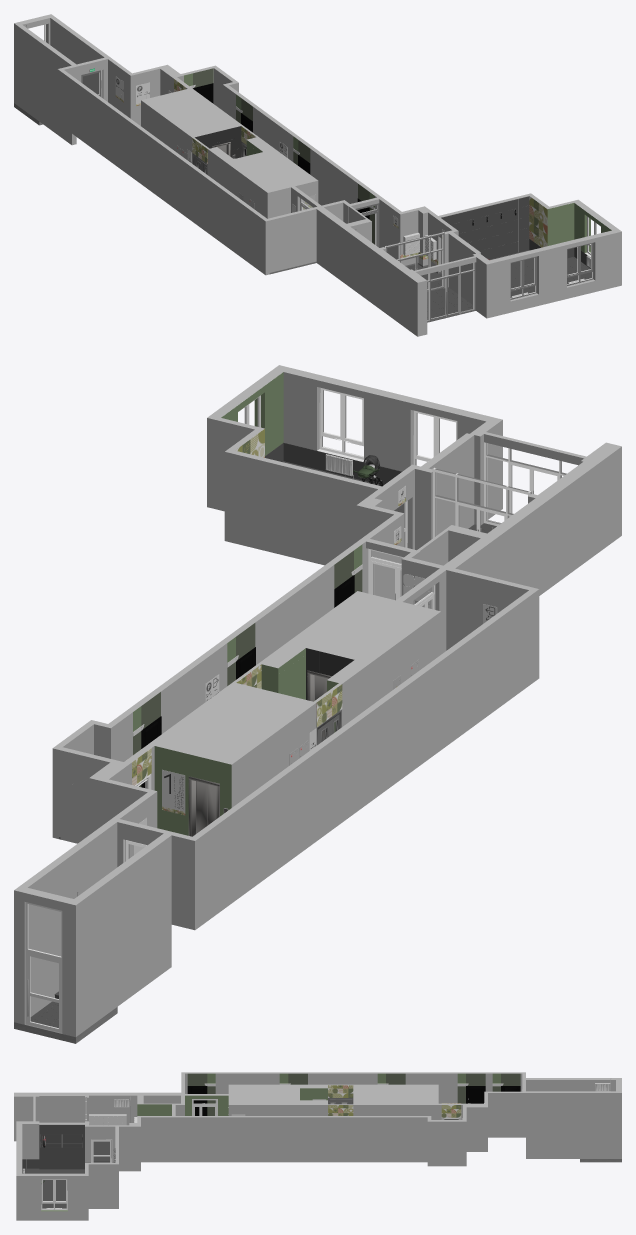
The model's file is OLIVIA_MOP_13_07_26.glb.
The picture shows the model from 3 angles, top to bottom: view 1: azimuth 30°, elevation 25°; view 2: azimuth 150°, elevation 25°; view 3: azimuth 270°, elevation 25°; orthographic projection. The views are drawn at different scales.
Visible parts, largest first — view 1: Box2131645134, Plane097, AR_Dvеr__Odnopol_nаy_Аlyminiеvаy__GOST23747-2015_DАV_G_Op_P_, JK_Oliviy_MOP_13_07_26, Plane001, Box2131644938, Plane024; view 2: Box2131645134, AR_Dvеr__Odnopol_nаy_Аlyminiеvаy__GOST23747-2015_DАV_G_Op_P_, JK_Oliviy_MOP_13_07_26, AR_Dvеr__Odnopol_nаy_Аlyminiеvаy__GOST23747-2015_DАN_G_Op_P_, Lift_portal004, Plane018, Plane020; view 3: Box2131645134, JK_Oliviy_MOP_13_07_26, Plane098, Plane001, AR_Dvеr__Odnopol_nаy_Аlyminiеvаy__GOST23747-2015_DАV_G_Op_P_, Box2131645140, Box2131644963.
Boxes of the visible parts, <box> form: Box2131645134: <box>14,14,621,336</box>; Plane097: <box>441,196,529,259</box>; AR_Dvеr__Odnopol_nаy_Аlyminiеvаy__GOST23747-2015_DАV_G_Op_P_: <box>81,70,600,322</box>; JK_Oliviy_MOP_13_07_26: <box>184,68,436,259</box>; Plane001: <box>245,155,591,322</box>; Box2131644938: <box>529,196,547,247</box>; Plane024: <box>195,126,241,173</box>; Box2131645134: <box>14,365,621,1037</box>; AR_Dvеr__Odnopol_nаy_Аlyminiеvаy__GOST23747-2015_DАV_G_Op_P_: <box>124,388,566,861</box>; JK_Oliviy_MOP_13_07_26: <box>54,544,435,998</box>; AR_Dvеr__Odnopol_nаy_Аlyminiеvаy__GOST23747-2015_DАN_G_Op_P_: <box>25,902,62,1032</box>; Lift_portal004: <box>188,776,219,836</box>; Plane018: <box>283,443,401,485</box>; Plane020: <box>306,648,353,699</box>; Box2131645134: <box>14,1072,621,1220</box>; JK_Oliviy_MOP_13_07_26: <box>89,1073,520,1125</box>; Plane098: <box>39,1125,84,1169</box>; Plane001: <box>22,1119,458,1208</box>; AR_Dvеr__Odnopol_nаy_Аlyminiеvаy__GOST23747-2015_DАV_G_Op_P_: <box>41,1096,112,1210</box>; Box2131645140: <box>328,1105,461,1117</box>; Box2131644963: <box>328,1085,353,1097</box>.
Size of what is drawn, in the model's own units: 1452 by 461 by 3594.
Materials: 81 (27 with a texture image).
